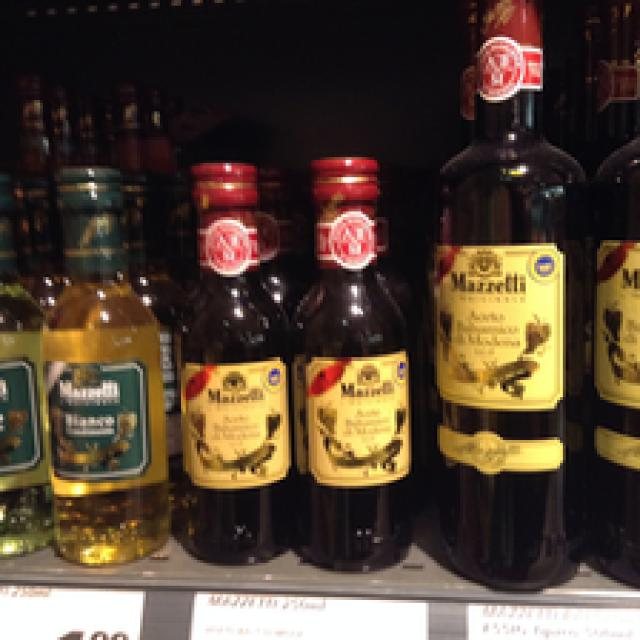groceries: (431, 0, 579, 591), (289, 152, 417, 572), (40, 166, 163, 560), (174, 157, 289, 563)
